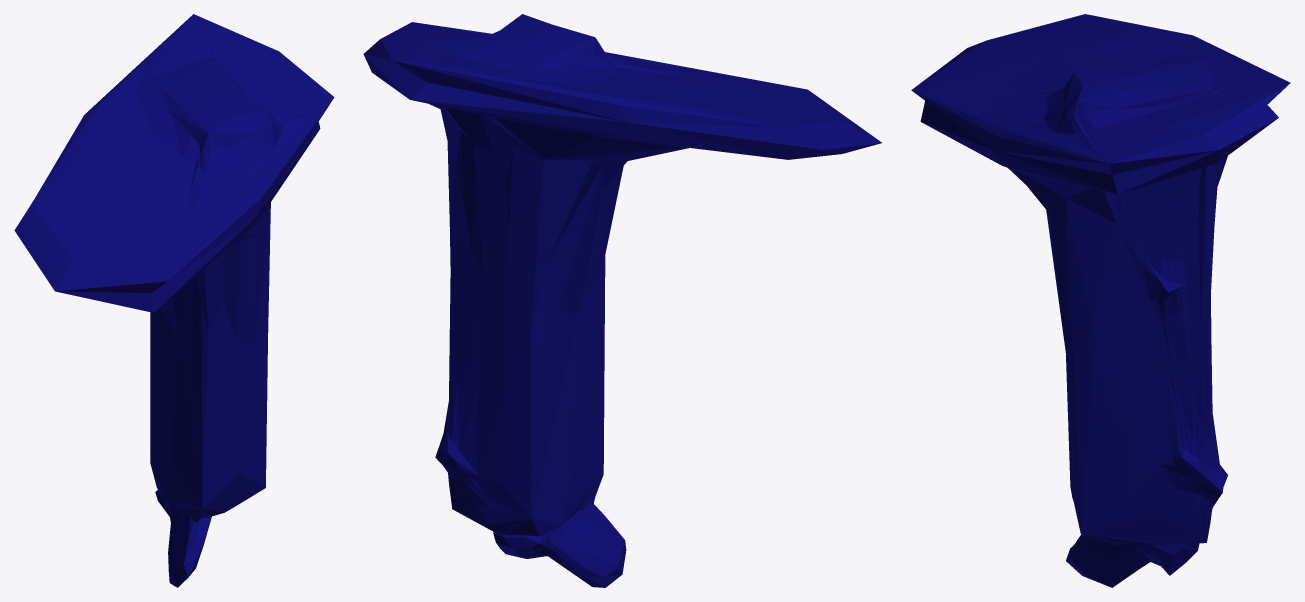
3 renders of one model, left to right at view 1: azimuth 30°, elevation 25°; view 2: azimuth 150°, elevation 25°; view 3: azimuth 270°, elevation 25°, orthographic. The views are drawn at different scales.
Visible parts, largest first — view 1: 143_Cube.594; view 2: 143_Cube.594; view 3: 143_Cube.594.
Boxes of the visible parts, x1,y1,x2,y2 form: 143_Cube.594: (14, 14, 334, 587); 143_Cube.594: (363, 14, 881, 587); 143_Cube.594: (911, 14, 1290, 587).
Bounding box in the file's own units: 10.74 × 14.6 × 9.01.
